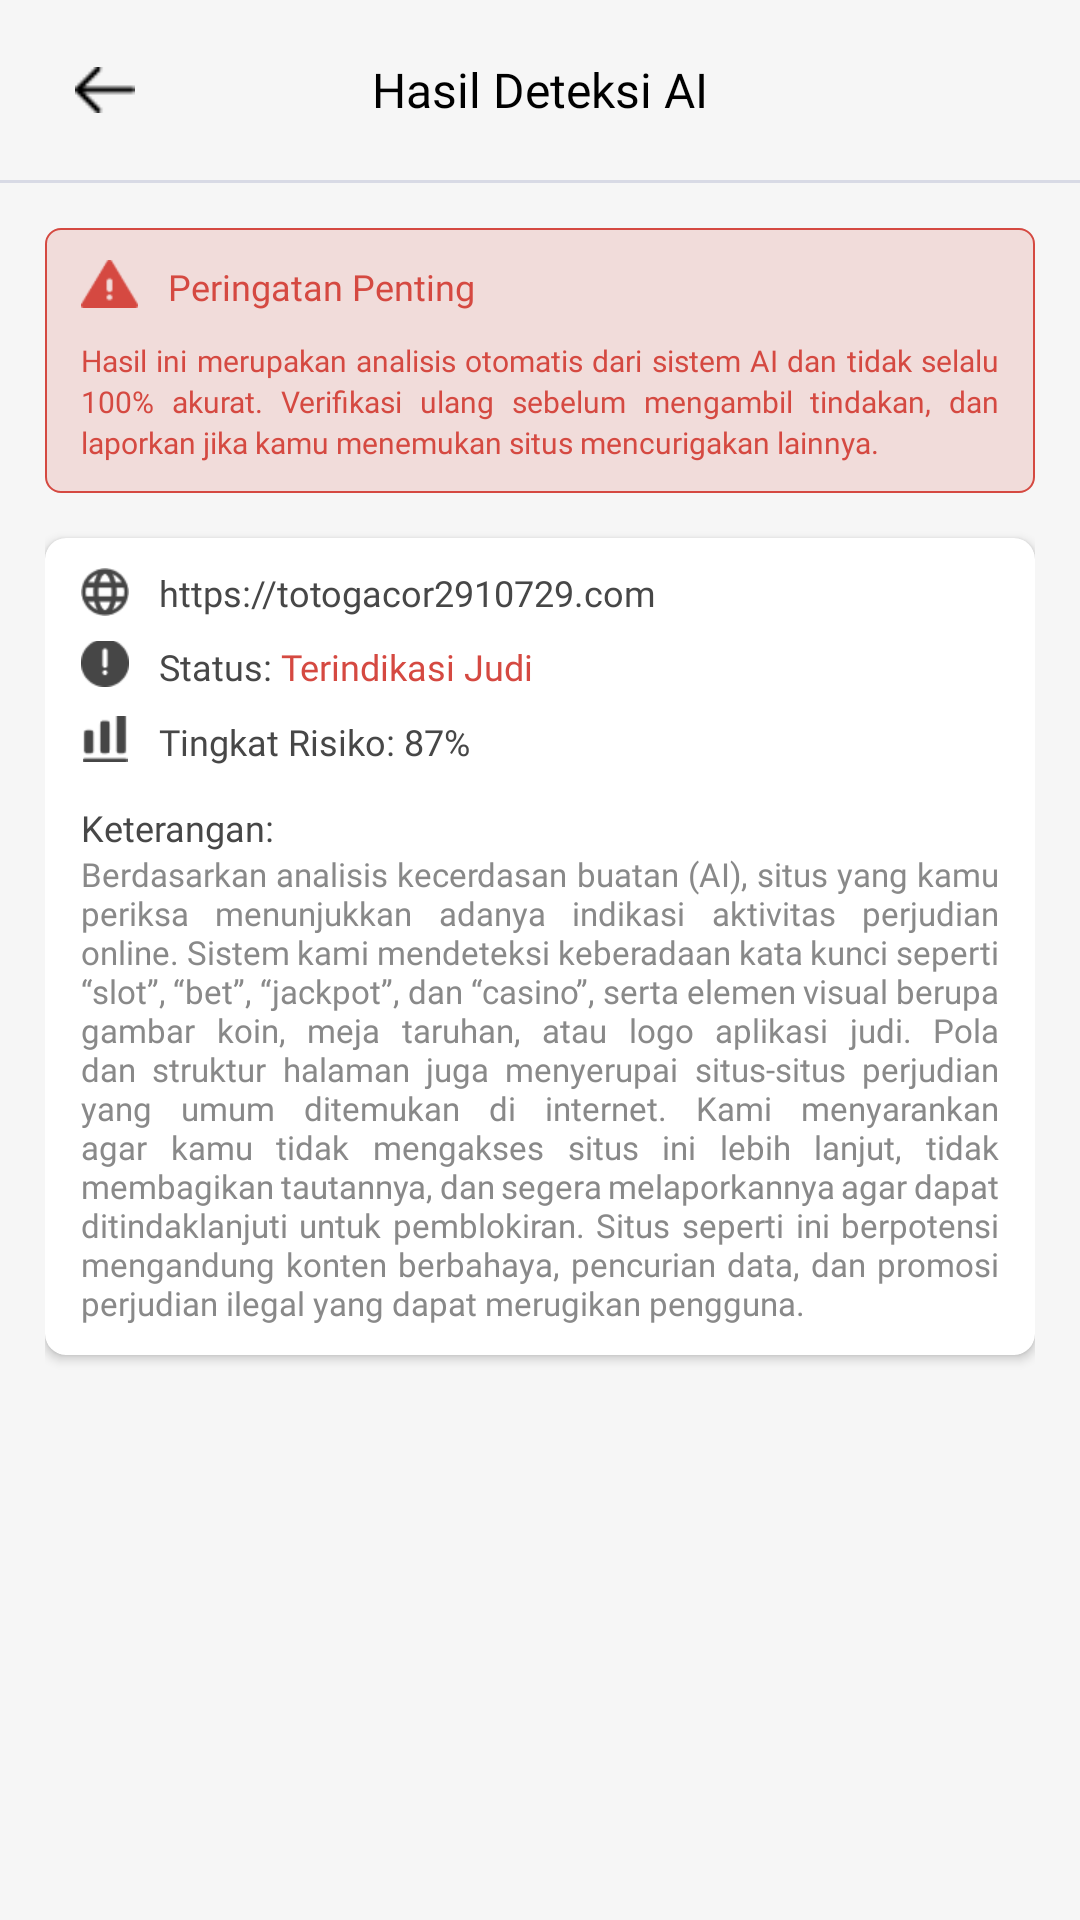

Named icons in this screenshot (1080 x 1920) and their bounding boxes, (x1, y1, x2, y2):
arrow left: (75, 67, 135, 113)
risk: (83, 716, 128, 762)
warning: (81, 260, 138, 308)
web: (81, 568, 129, 616)
